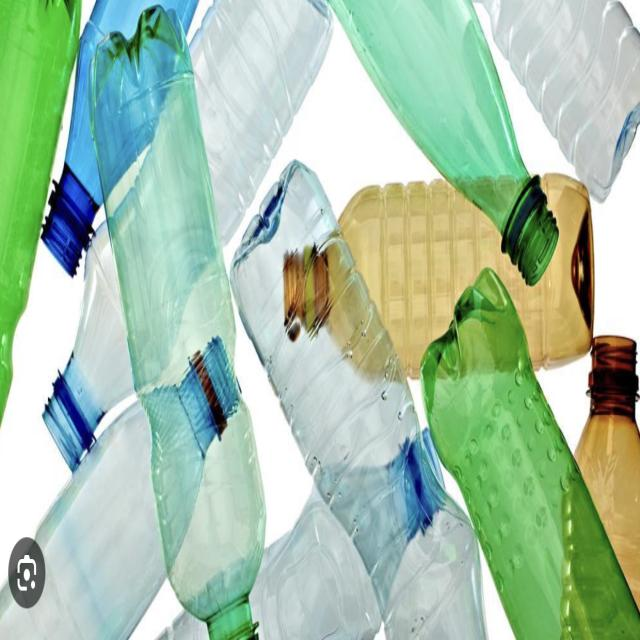recyclable: (215, 103, 496, 640), (85, 0, 279, 640), (402, 225, 640, 640)
